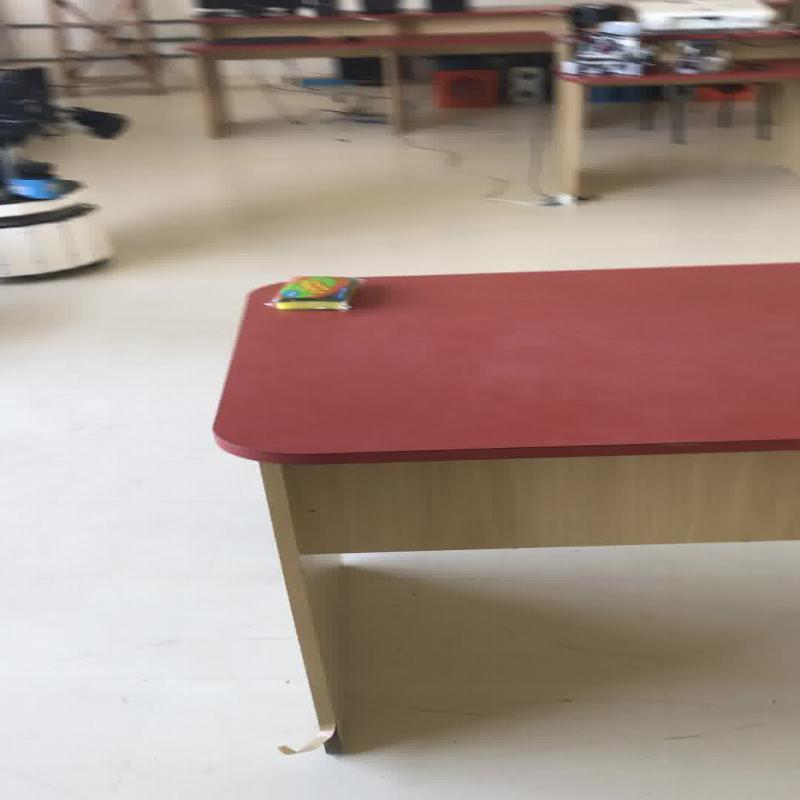sponge: (264, 274, 360, 310)
